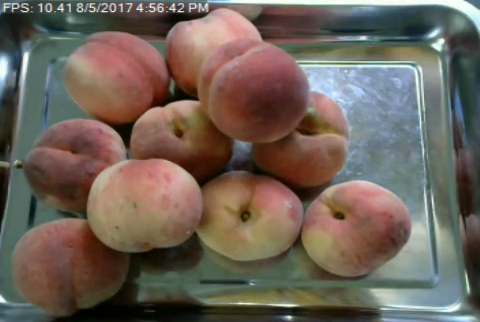Peach: (198, 37, 309, 142), (11, 216, 127, 315), (89, 155, 199, 252), (300, 180, 411, 275), (24, 116, 130, 213), (64, 30, 169, 122), (195, 171, 304, 259), (255, 87, 349, 182), (164, 9, 264, 97), (131, 99, 233, 180)
